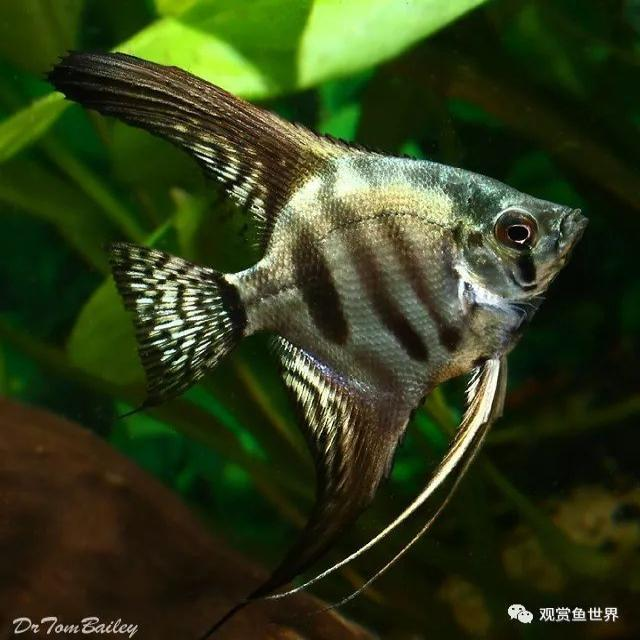AngelFish: (43, 45, 588, 608)
